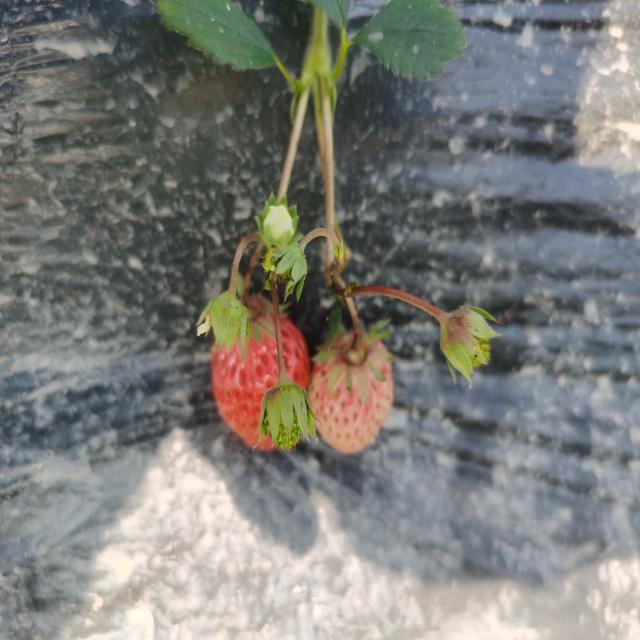stem: (242, 260, 258, 307), (348, 306, 359, 353)
strawberry: (308, 332, 394, 453), (212, 299, 276, 444), (281, 313, 310, 388)
